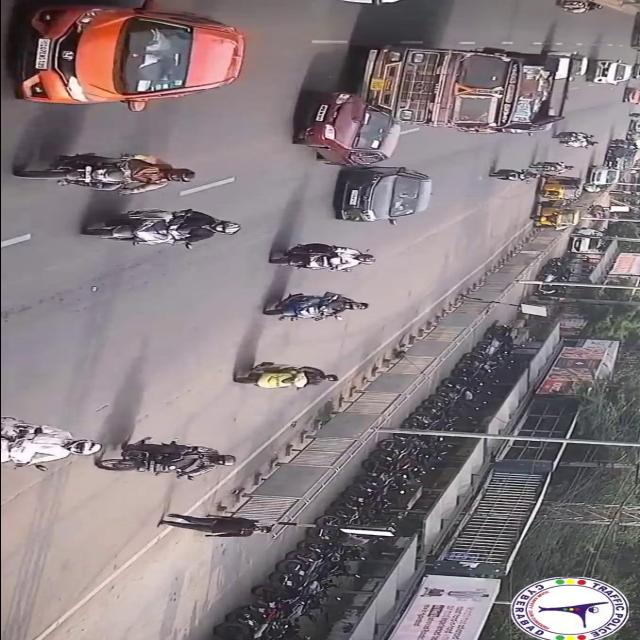accident: (284, 42, 580, 166)
non_accident: (584, 139, 640, 193), (549, 129, 599, 151)
